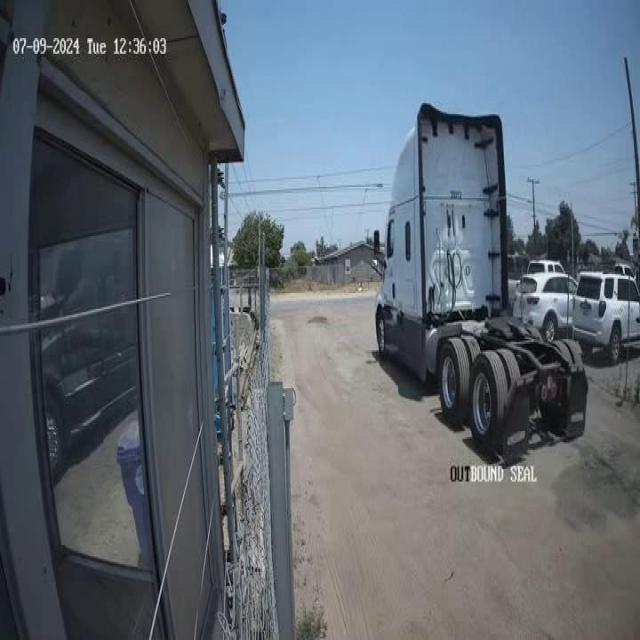BOBTAIL: (373, 100, 588, 463)
